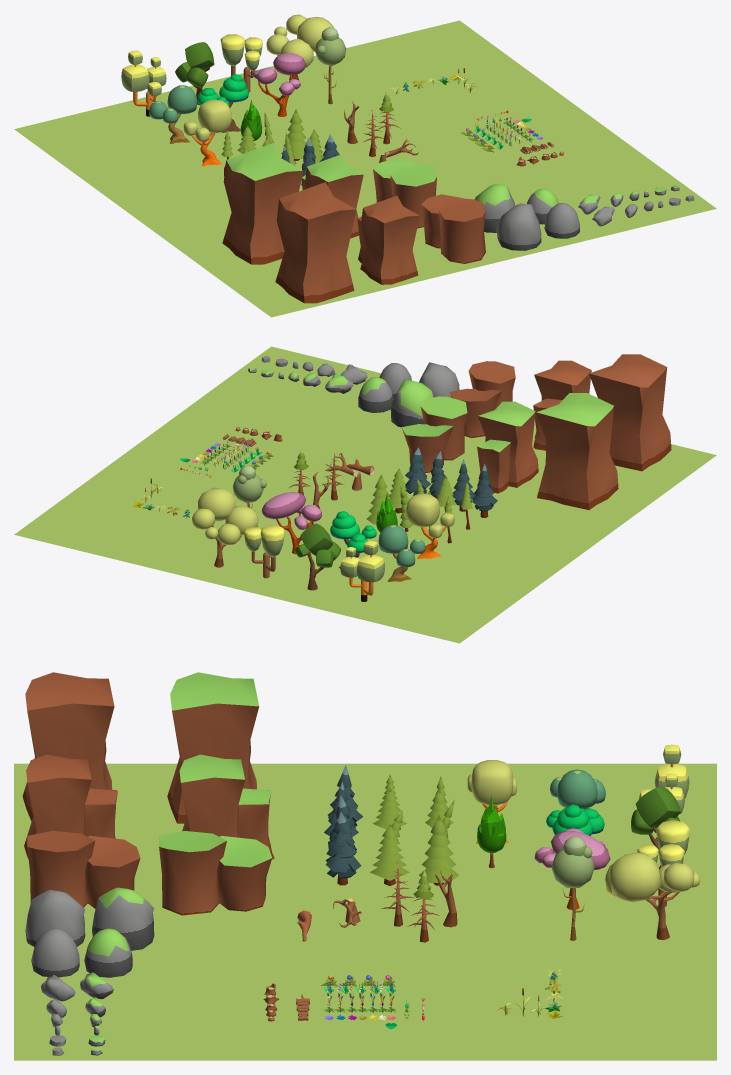
The model's file is low_poly_nature_free.glb.
3 renders of one model, top to bottom at view 1: azimuth 30°, elevation 25°; view 2: azimuth 150°, elevation 25°; view 3: azimuth 270°, elevation 25°, orthographic. The views are drawn at different scales.
Visible parts, largest first — view 1: Plane, Ground.005, Ground, Ground.003, Ground.002, Ground.001, Ground.004, Tree.016, Stone.005, Tree.021, Tree.011, Tree.014 (+10 smaller); view 2: Plane, Ground, Ground.005, Ground.004, Ground.001, Ground.002, Tree.016, Ground.003, Tree.011, Tree.014, Tree.021, Tree.019 (+14 smaller); view 3: Plane, Ground.001, Ground, Ground.005, Ground.002, Ground.004, Ground.003, Tree.016, Stone.011, Stone.005, Tree.013, Stone.004 (+15 smaller).
Part boxes in pixels (x1,y1,x2,y2): Plane: (14, 20, 716, 317); Ground.005: (275, 182, 356, 303); Ground: (222, 143, 303, 264); Ground.003: (357, 195, 419, 284); Ground.002: (421, 194, 485, 263); Ground.001: (373, 159, 436, 228); Ground.004: (301, 154, 363, 238); Tree.016: (266, 14, 333, 80); Stone.005: (496, 203, 541, 250); Tree.021: (121, 50, 166, 116); Tree.011: (183, 99, 231, 166); Tree.014: (252, 53, 305, 116); Plane: (14, 346, 716, 643); Ground: (536, 393, 618, 509); Ground.005: (589, 354, 671, 471); Ground.004: (477, 401, 538, 493); Ground.001: (401, 396, 467, 473); Ground.002: (450, 361, 515, 438); Tree.016: (192, 487, 258, 567); Ground.003: (533, 360, 591, 450); Tree.011: (406, 493, 454, 559); Tree.014: (261, 492, 321, 554); Tree.021: (340, 540, 384, 601); Tree.019: (295, 523, 341, 590); Plane: (14, 763, 716, 1060); Ground.001: (159, 831, 271, 915); Ground: (167, 672, 259, 823); Ground.005: (22, 672, 114, 821); Ground.002: (27, 831, 140, 908); Ground.004: (179, 754, 274, 859); Ground.003: (24, 754, 117, 858); Tree.016: (605, 852, 700, 940); Stone.011: (92, 887, 154, 950); Stone.005: (25, 890, 85, 946); Tree.013: (551, 836, 594, 940); Stone.004: (31, 928, 79, 977).
Bounding box in the file's own units: 56.18 × 11.05 × 56.18.
1 material, 1 textured.
